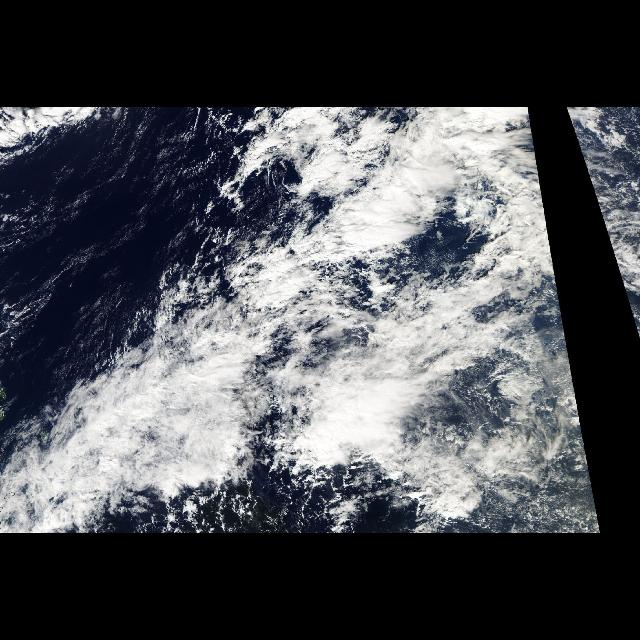Sugar: (0, 129, 268, 347)
